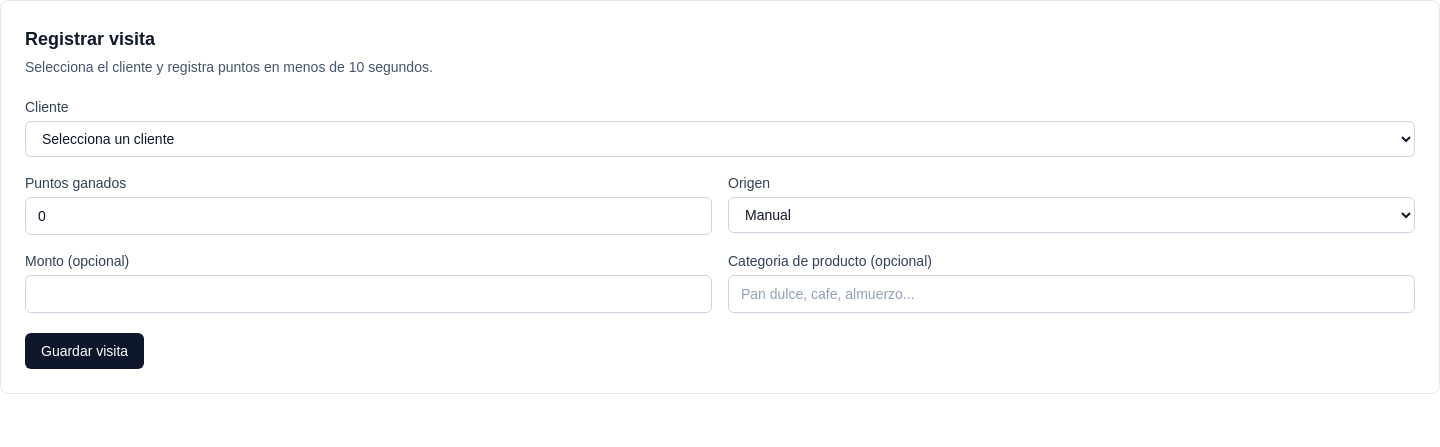
Test: VisitForm integration › form submission › displays success message after successful submission
Select "Juan Perez - 555-0001" in the dropdown labelled "Cliente" at point(720, 139), box [25,121,1415,157]
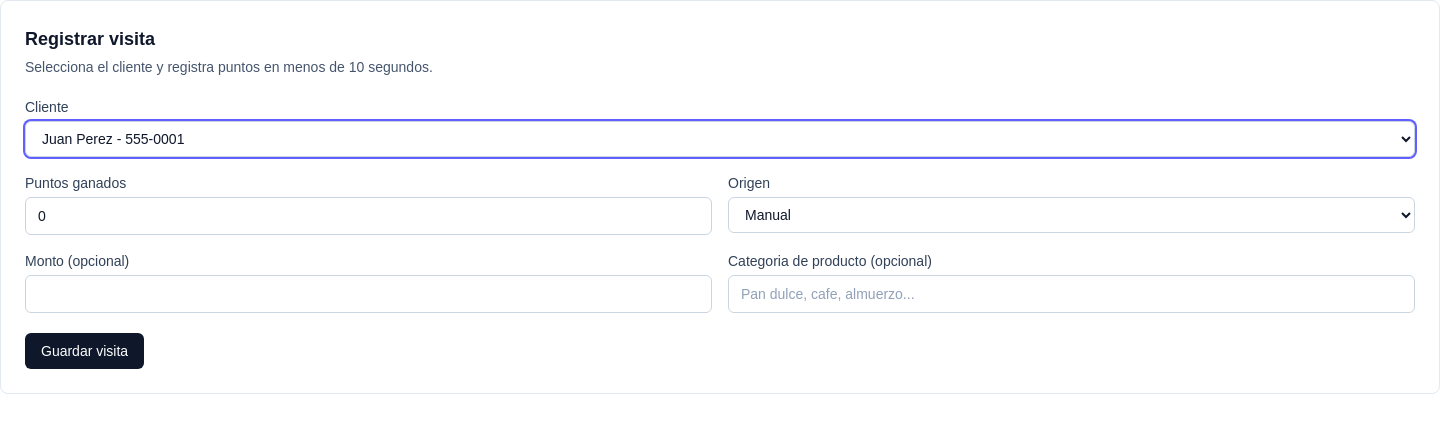
Click the button "Guardar visita" at point(85, 351), box [25,333,144,369]
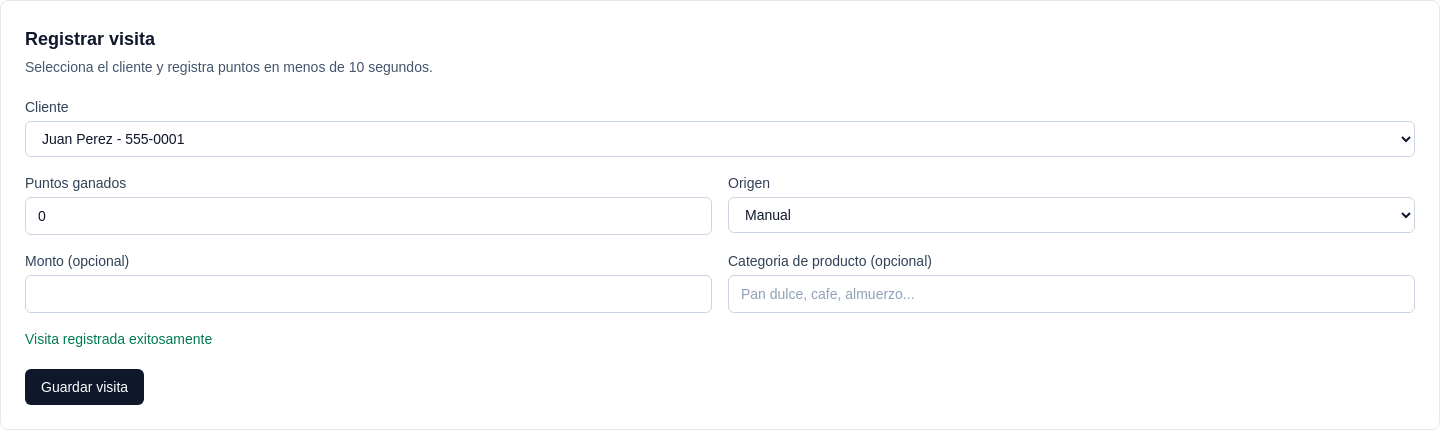
Result: the text "Visita registrada exitosamente" is shown at [25,331,212,347]
